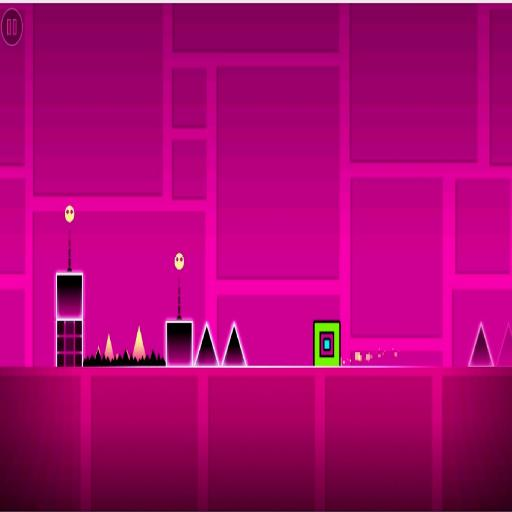block: (54, 273, 84, 370), (165, 320, 195, 370)
player: (311, 318, 343, 370)
spike: (468, 323, 492, 366), (194, 323, 217, 366), (222, 323, 245, 365), (133, 327, 146, 359), (105, 333, 114, 358)
